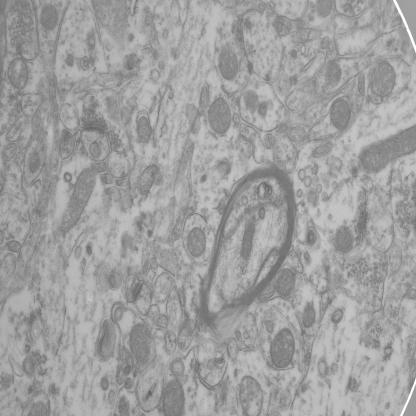mitochondria: (355, 122, 416, 177), (58, 166, 103, 235), (270, 317, 297, 373), (368, 53, 397, 102), (237, 368, 266, 416), (129, 318, 155, 368), (160, 375, 188, 416), (206, 95, 233, 136), (328, 93, 353, 133), (216, 47, 244, 82), (183, 223, 208, 259), (6, 55, 30, 92), (36, 1, 62, 35), (276, 265, 298, 303), (333, 220, 355, 256), (323, 56, 344, 92), (301, 298, 318, 333), (138, 118, 154, 144)
